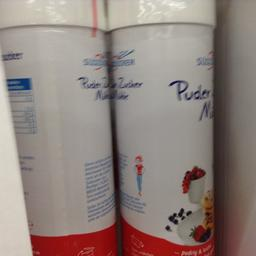sugar: (0, 0, 115, 255), (105, 0, 216, 255)
